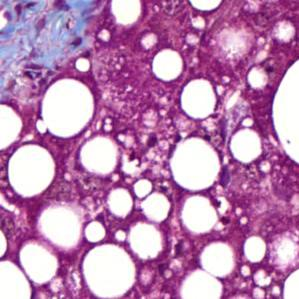steatosis: (40, 81, 99, 135), (179, 79, 219, 123)
